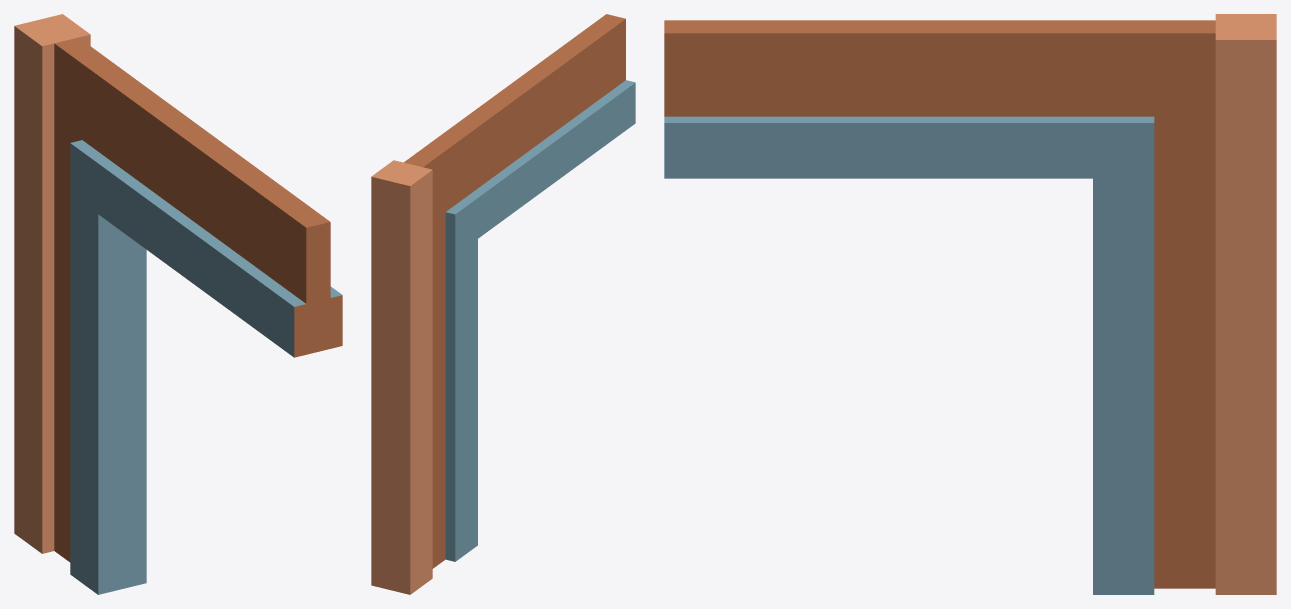
File: wallWoodDoorwaySquareWide.fbx
The picture shows the model from 3 angles, left to right: view 1: azimuth 30°, elevation 25°; view 2: azimuth 150°, elevation 25°; view 3: azimuth 270°, elevation 25°; orthographic projection. The views are drawn at different scales.
Parts seen in each view (by area): view 1: wallWoodDoorwaySquareWide; view 2: wallWoodDoorwaySquareWide; view 3: wallWoodDoorwaySquareWide.
Boxes of the visible parts, x1,y1,x2,y2 form: wallWoodDoorwaySquareWide: (14, 14, 342, 594); wallWoodDoorwaySquareWide: (371, 14, 635, 594); wallWoodDoorwaySquareWide: (664, 14, 1276, 594).
Bounding box in the file's own units: 1 × 10 × 10.
